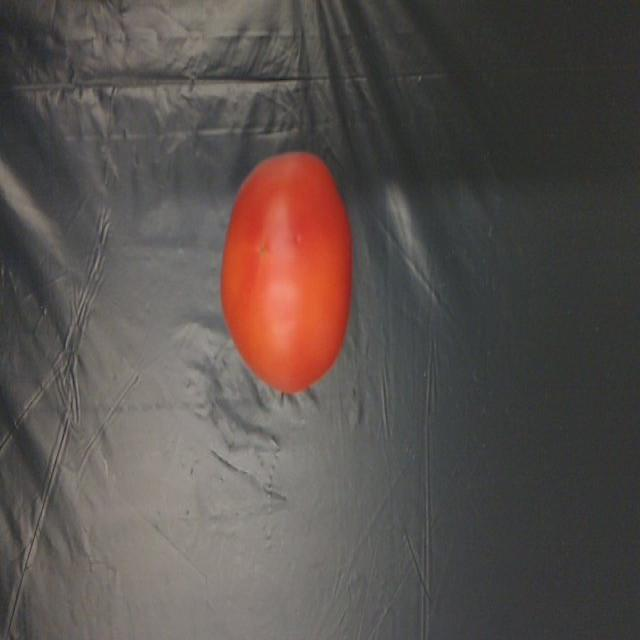kirmizi: (224, 145, 354, 394)
